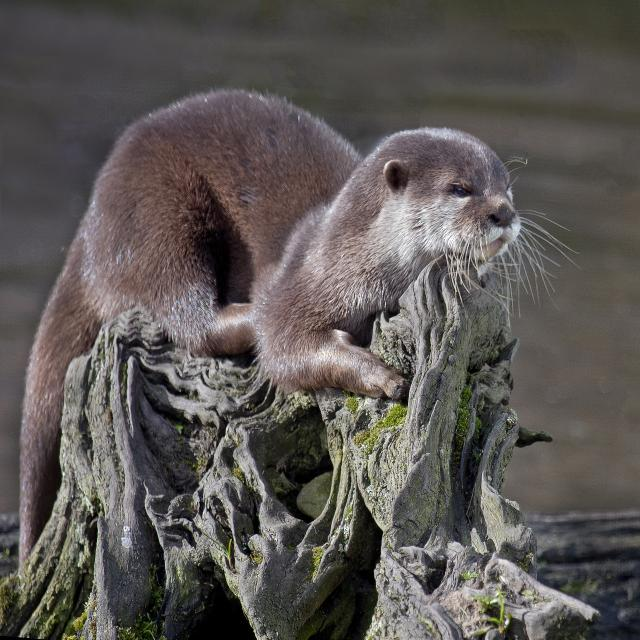otter: (76, 88, 523, 389)
